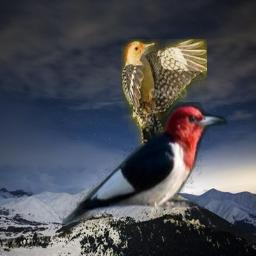Woodpecker: (62, 102, 229, 229), (121, 39, 207, 154)
